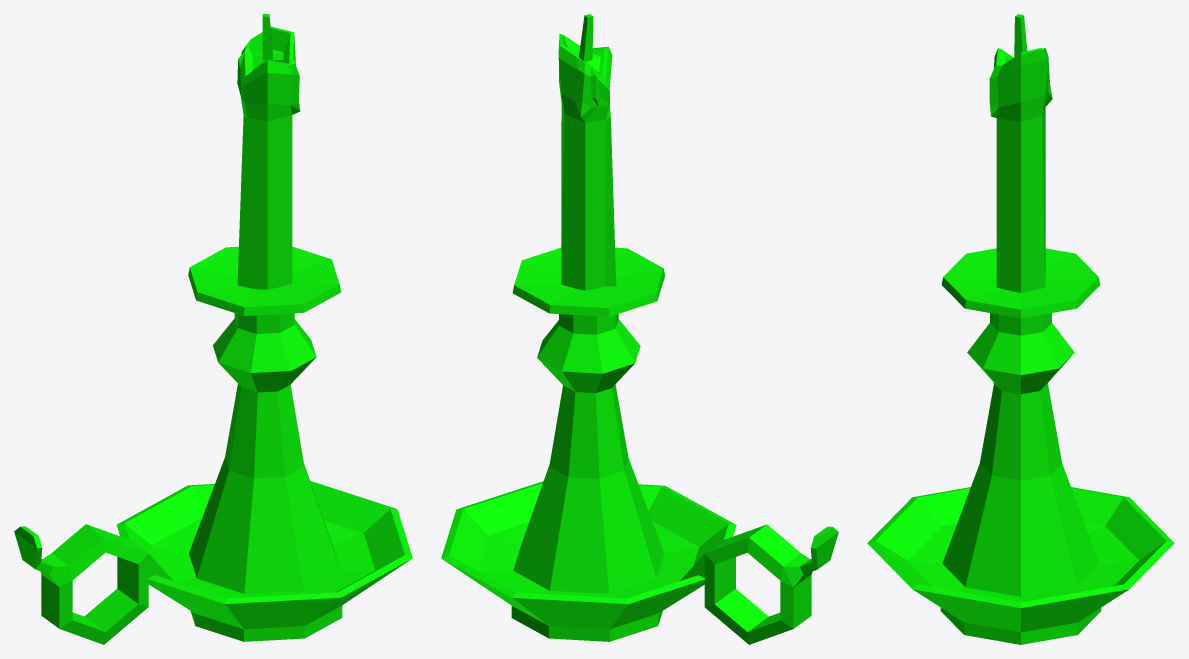
Rendered from SM_Candle_Finger_Holder_A_Unlit_Fantasy.fbx.
3 renders of one model, left to right at view 1: azimuth 30°, elevation 25°; view 2: azimuth 150°, elevation 25°; view 3: azimuth 270°, elevation 25°, orthographic.
Visible parts, largest first — view 1: candle-finger-holder-a-unlit-fantasy; view 2: candle-finger-holder-a-unlit-fantasy; view 3: candle-finger-holder-a-unlit-fantasy.
Part boxes in pixels (x1,y1,x2,y2): candle-finger-holder-a-unlit-fantasy: (14,14,412,644); candle-finger-holder-a-unlit-fantasy: (441,14,838,644); candle-finger-holder-a-unlit-fantasy: (867,14,1174,644).
Bounding box in the file's own units: 0.2453 × 0.3743 × 0.1752.
